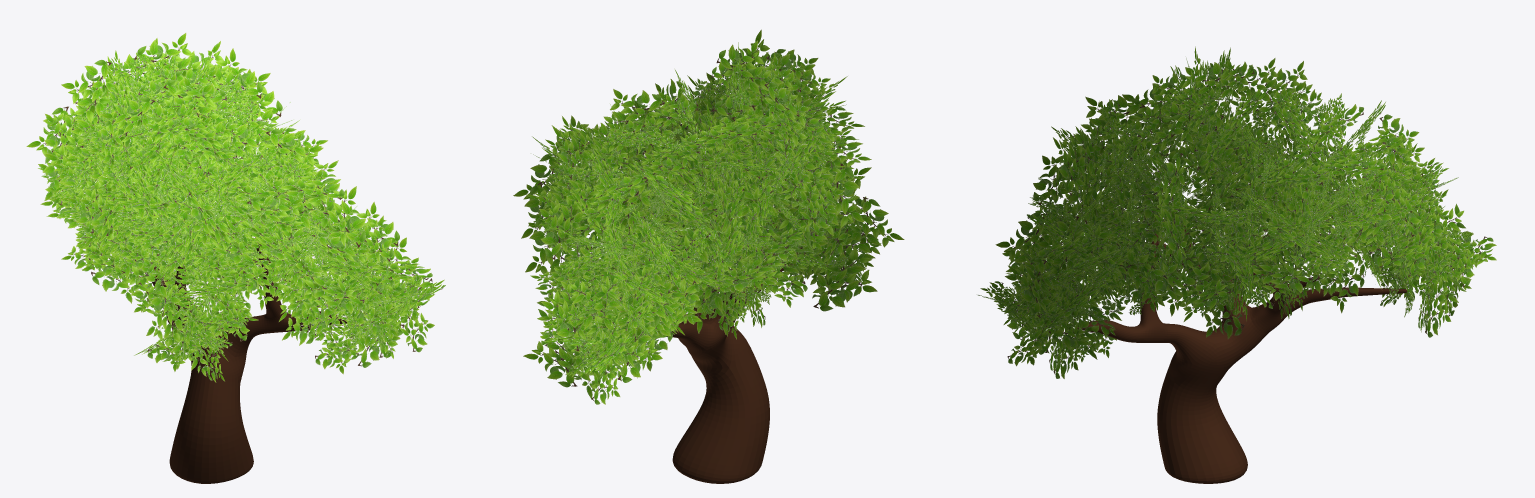
File: bigtree.fbx
3 renders of one model, left to right at view 1: azimuth 30°, elevation 25°; view 2: azimuth 150°, elevation 25°; view 3: azimuth 270°, elevation 25°, orthographic. The views are drawn at different scales.
Visible parts, largest first — view 1: 63-636871_green-branch-transparent-png-clip-art-image-green., Plane.001; view 2: 63-636871_green-branch-transparent-png-clip-art-image-green., Plane.001; view 3: 63-636871_green-branch-transparent-png-clip-art-image-green., Plane.001.
Boxes of the visible parts, bbox=[...] form: 63-636871_green-branch-transparent-png-clip-art-image-green.: bbox=[26, 33, 445, 382]; Plane.001: bbox=[142, 237, 347, 483]; 63-636871_green-branch-transparent-png-clip-art-image-green.: bbox=[513, 29, 904, 404]; Plane.001: bbox=[645, 223, 802, 483]; 63-636871_green-branch-transparent-png-clip-art-image-green.: bbox=[978, 46, 1496, 378]; Plane.001: bbox=[1077, 226, 1407, 483].
Size of the model in its own units: 551 by 707 by 847.
